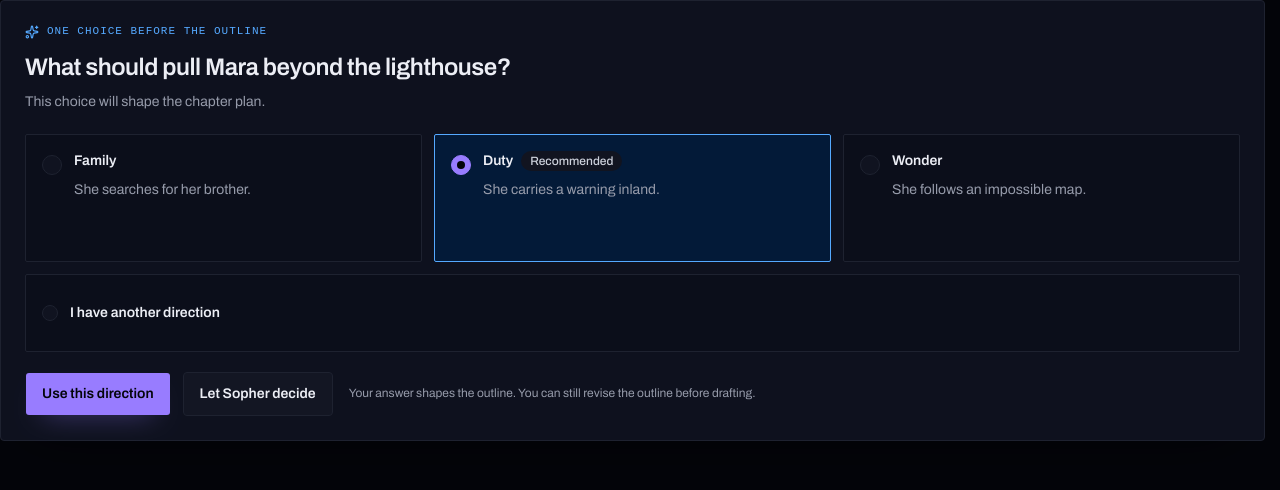
Test: CreativeDecisionCard › submits the recommendation path without inventing a custom answer
Click the button "Let Sopher decide" at (258, 394), box [183, 372, 333, 416]
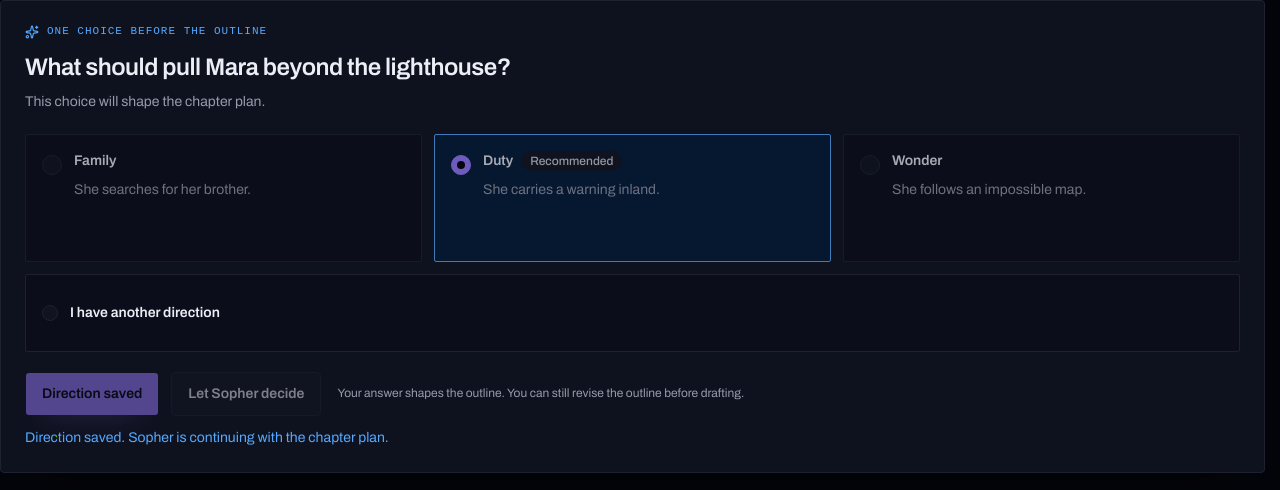
expect the message shows "Direction saved": met, box [25, 430, 389, 445]
